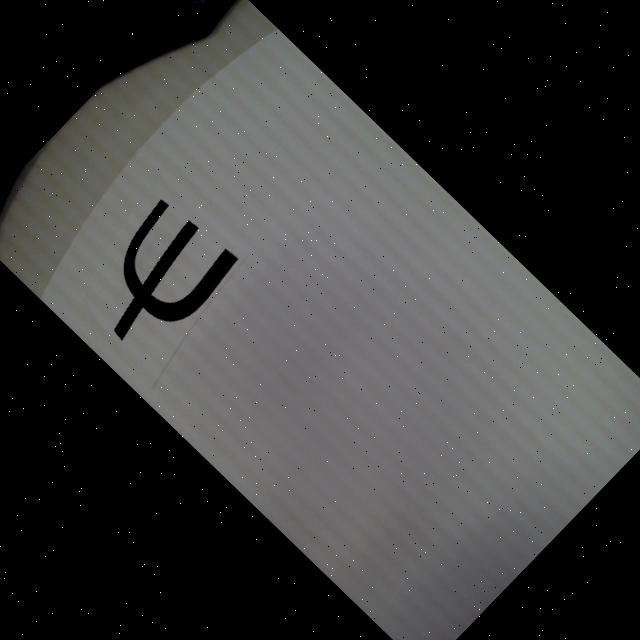PSI: (71, 192, 244, 366)
